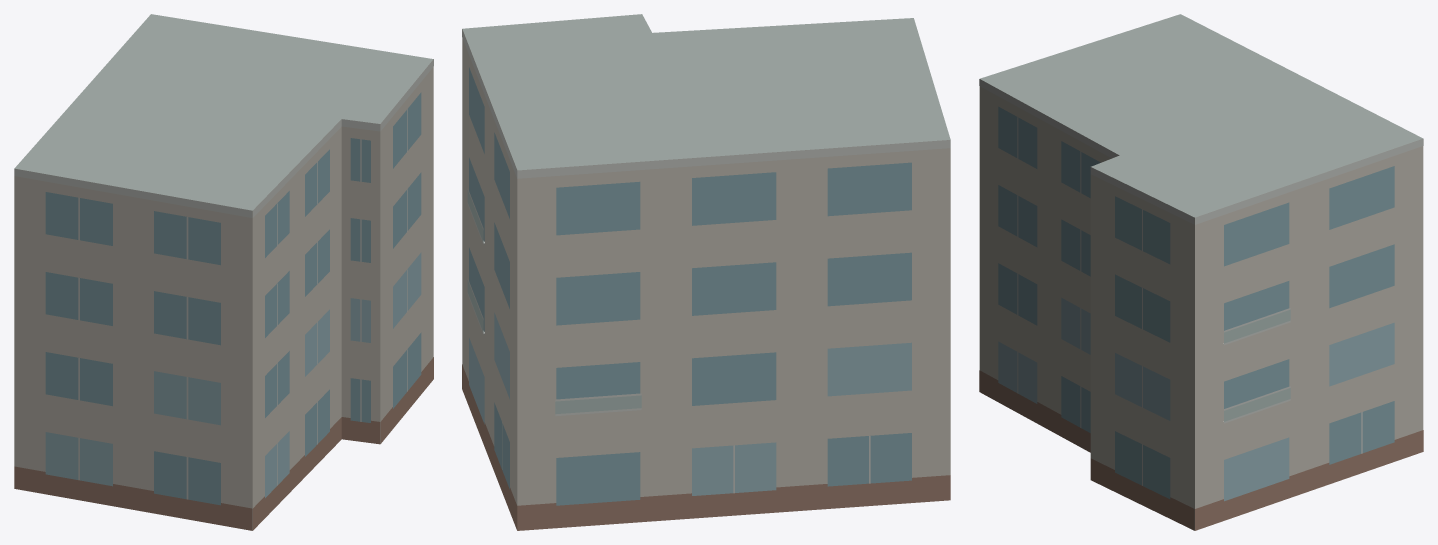
The model's file is survey-upis-32637335.glb.
3 views of the same model, side by side, from view 1: azimuth 30°, elevation 25°; view 2: azimuth 150°, elevation 25°; view 3: azimuth 270°, elevation 25° (orthographic). The views are drawn at different scales.
Parts seen in each view (by area): view 1: survey-upis-32637335.tmp; view 2: survey-upis-32637335.tmp; view 3: survey-upis-32637335.tmp.
Part boxes in pixels (x1,y1,x2,y2): survey-upis-32637335.tmp: (14, 14, 433, 530); survey-upis-32637335.tmp: (462, 14, 950, 530); survey-upis-32637335.tmp: (979, 14, 1423, 530).
Bounding box in the file's own units: 14.65 × 10.5 × 13.5.
